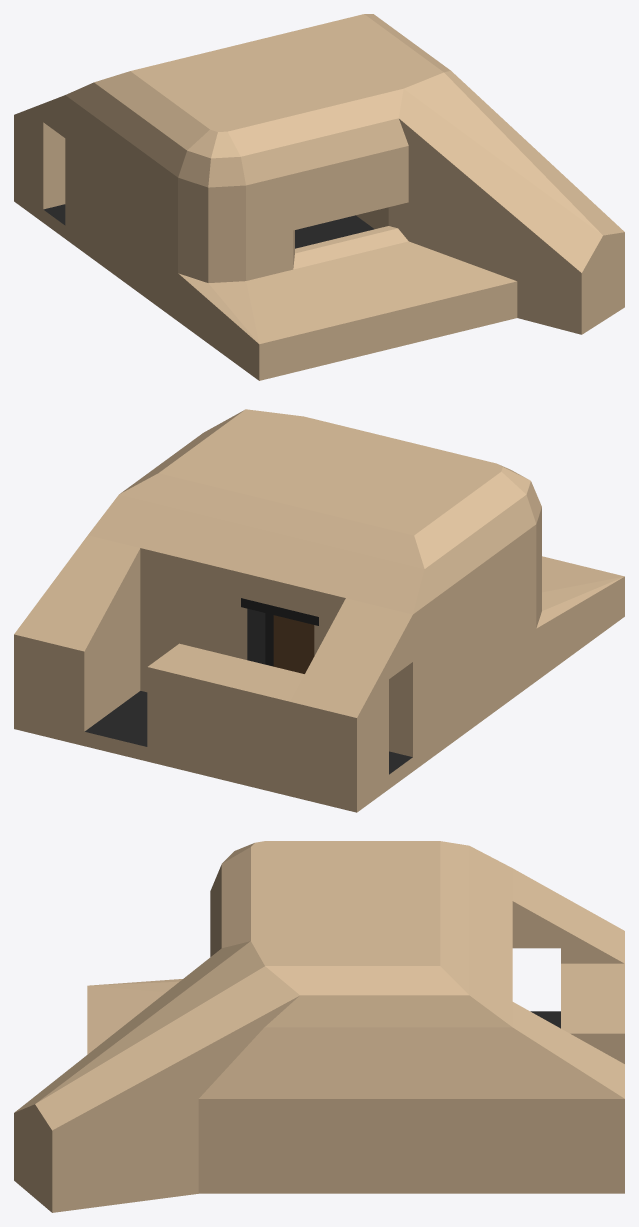
Rendered from ww2-bunker-medium.glb.
The picture shows the model from 3 angles, top to bottom: view 1: azimuth 30°, elevation 25°; view 2: azimuth 150°, elevation 25°; view 3: azimuth 270°, elevation 25°; orthographic projection. The views are drawn at different scales.
Visible parts, largest first — view 1: bunker-medium; view 2: bunker-medium; view 3: bunker-medium.
Part boxes in pixels (x1,y1,x2,y2): bunker-medium: [14, 14, 624, 380]; bunker-medium: [14, 409, 624, 812]; bunker-medium: [14, 841, 624, 1212].
Bounding box in the file's own units: 8.13 × 4.09 × 11.23.
